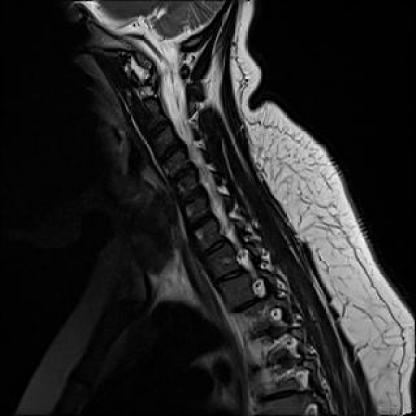Annular Disc Relaxationrotation: (164, 168, 198, 182), (175, 191, 208, 203)
